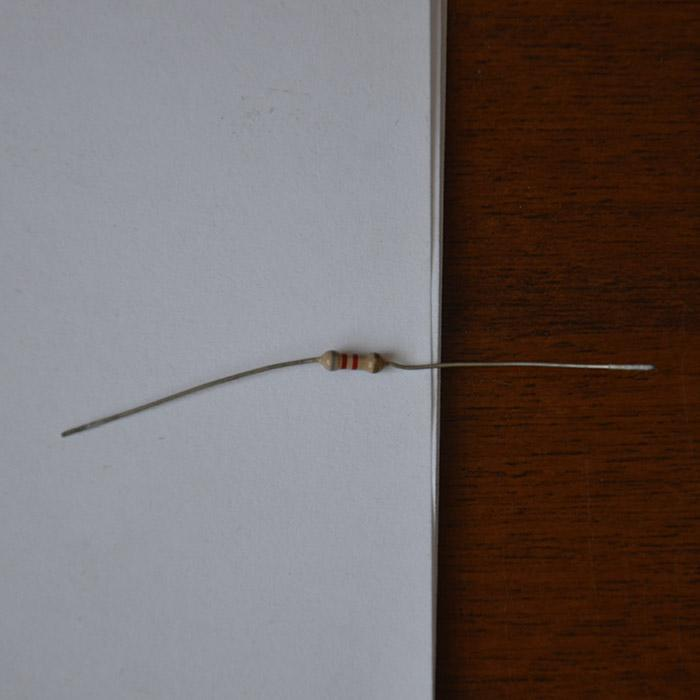resistor: (318, 349, 383, 373)
